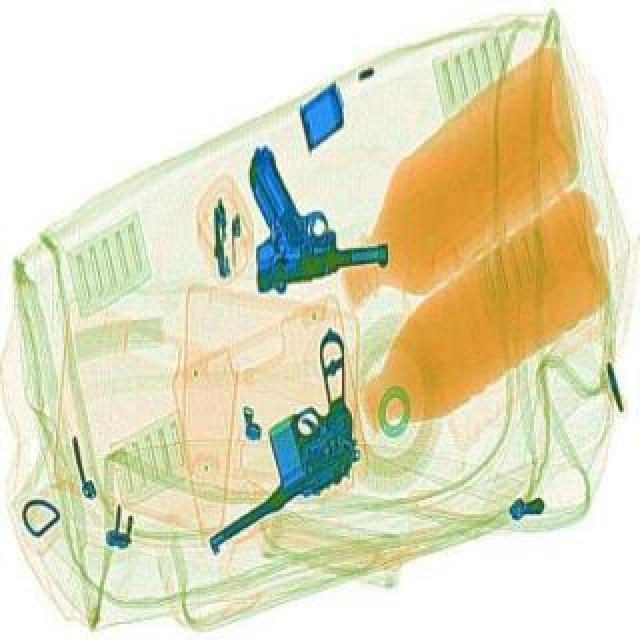gun: (176, 326, 372, 546), (230, 130, 390, 294)
